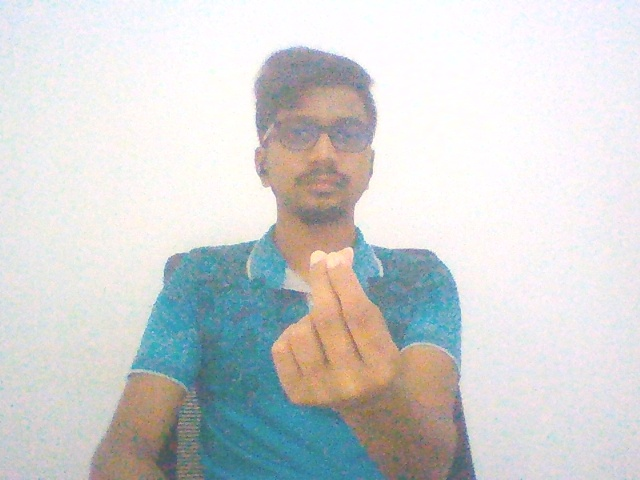dog: (243, 233, 430, 431)
